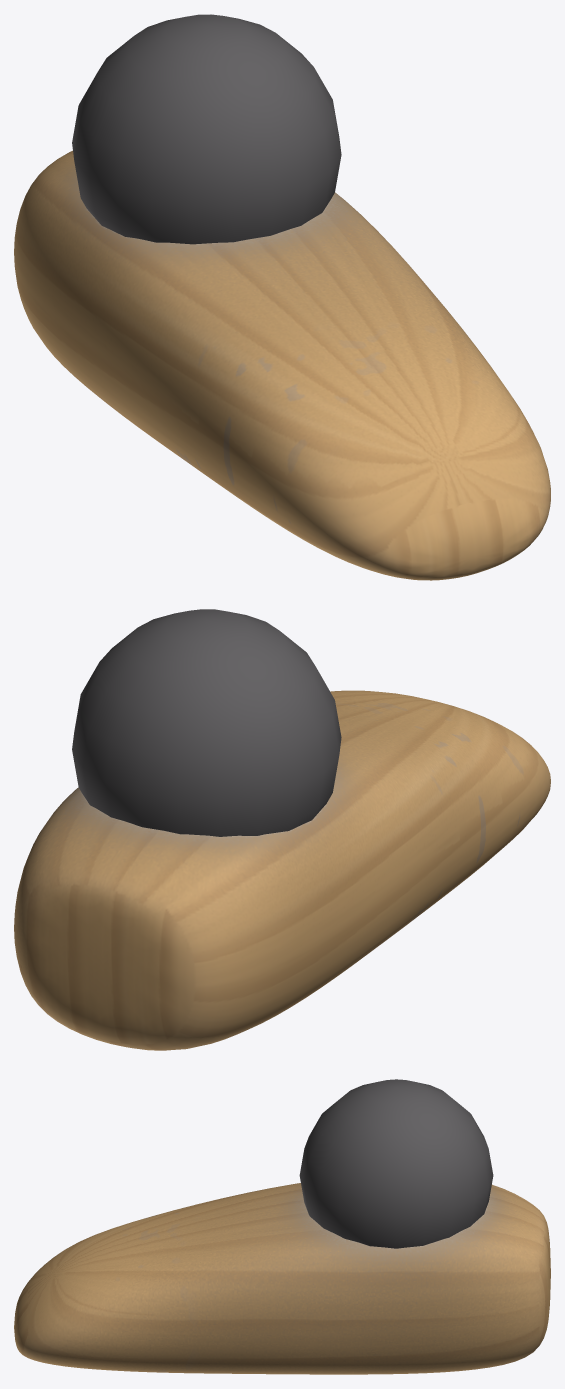
File: Foot_R.glb
The picture shows the model from 3 angles, top to bottom: view 1: azimuth 30°, elevation 25°; view 2: azimuth 150°, elevation 25°; view 3: azimuth 270°, elevation 25°; orthographic projection. The views are drawn at different scales.
Parts seen in each view (by area): view 1: Foot_R, Foot_R_Ball; view 2: Foot_R, Foot_R_Ball; view 3: Foot_R, Foot_R_Ball.
Boxes of the visible parts, x1=… form: Foot_R: x1=14, y1=150, x2=550, y2=580; Foot_R_Ball: x1=72, y1=14, x2=341, y2=244; Foot_R: x1=14, y1=690, x2=550, y2=1050; Foot_R_Ball: x1=72, y1=609, x2=341, y2=836; Foot_R: x1=14, y1=1183, x2=550, y2=1374; Foot_R_Ball: x1=299, y1=1079, x2=493, y2=1248.
Size of the model in its own units: 0.103 by 0.1356 by 0.2494.
Materials: 2 (1 with a texture image).
